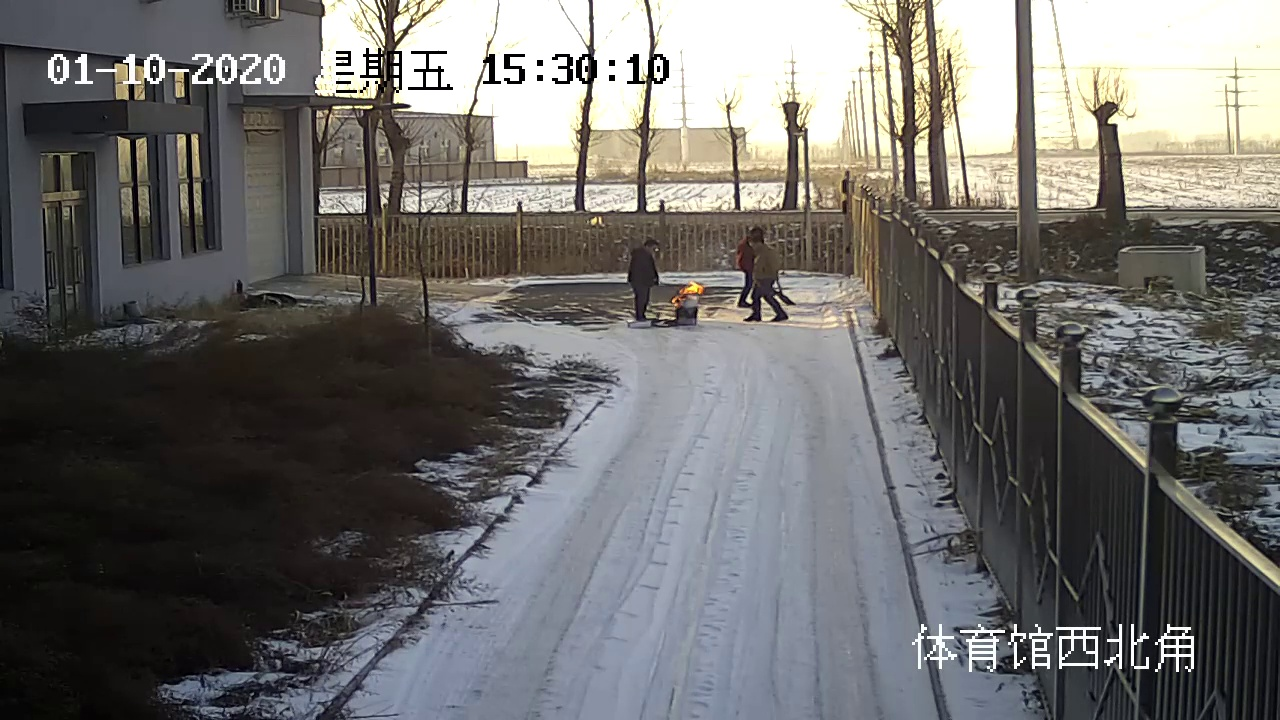fire: (666, 281, 711, 303)
